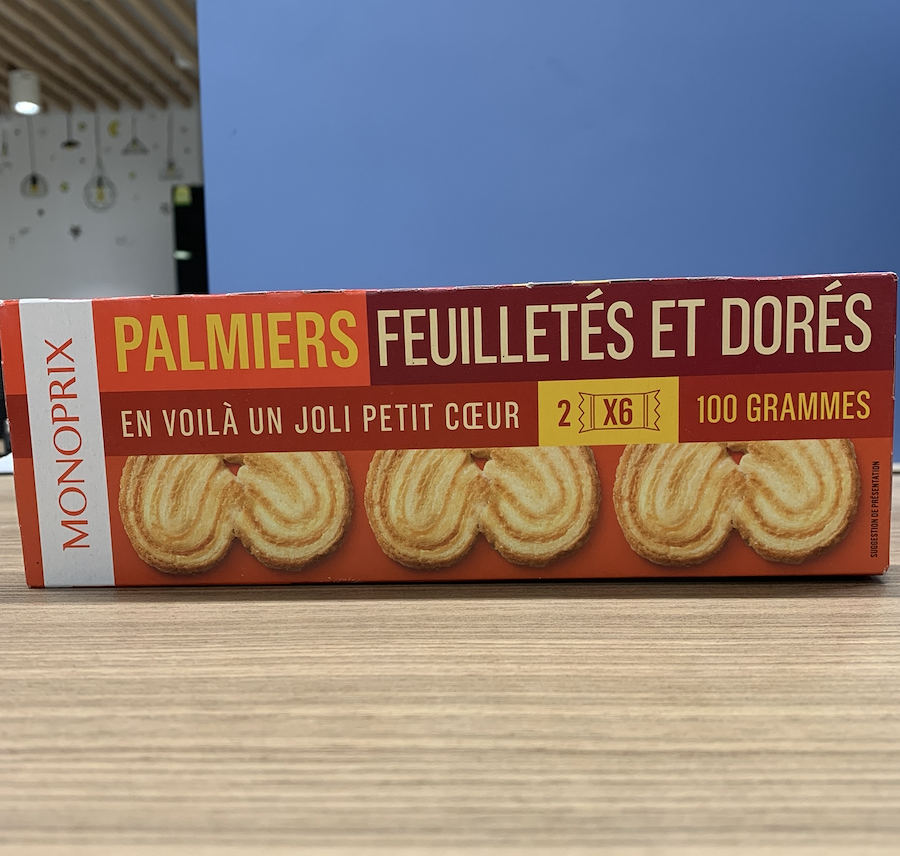cookies_150g: (37, 301, 880, 571)
